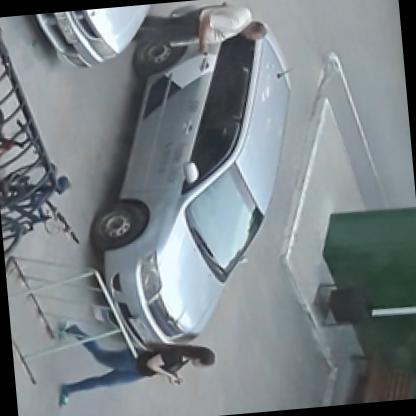Human Body: (50, 298, 222, 412), (129, 0, 273, 77)
